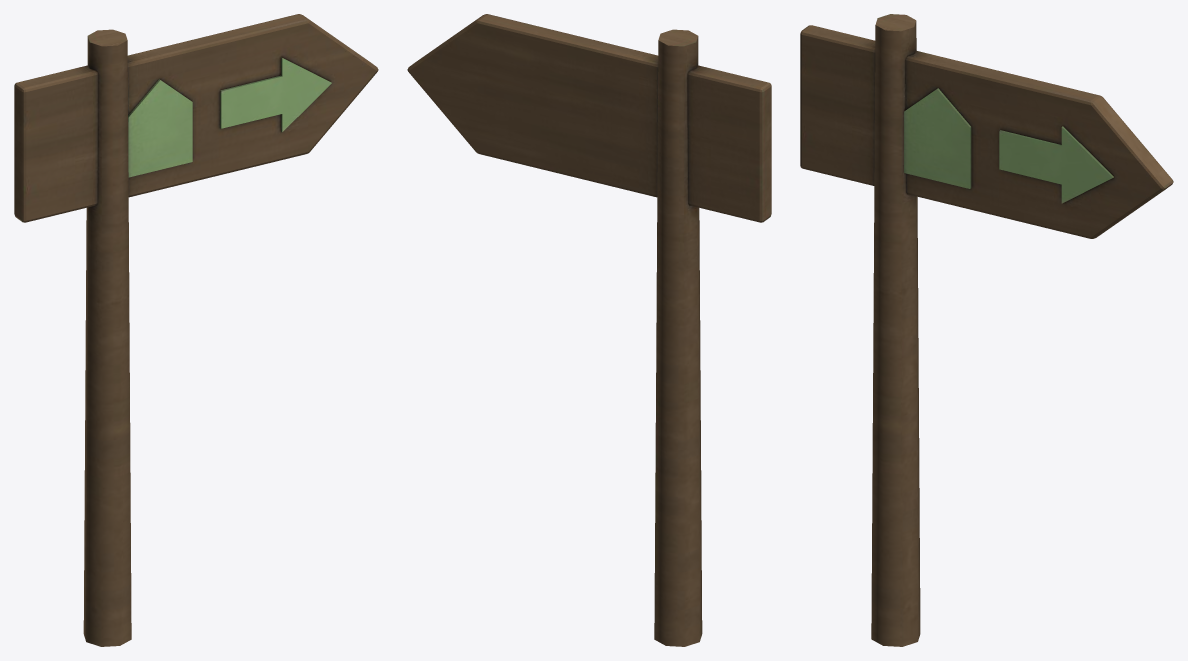
Rendered from dg_placa_saida.glb.
3 views of the same model, side by side, from view 1: azimuth 30°, elevation 25°; view 2: azimuth 150°, elevation 25°; view 3: azimuth 330°, elevation 25° (orthographic). The views are drawn at different scales.
Visible parts, largest first — view 1: dg_placa_saida_tronco; view 2: dg_placa_saida_tronco; view 3: dg_placa_saida_tronco.
Boxes of the visible parts, x1,y1,x2,y2 form: dg_placa_saida_tronco: [14, 14, 378, 646]; dg_placa_saida_tronco: [407, 14, 771, 646]; dg_placa_saida_tronco: [800, 14, 1173, 646].
Bounding box in the file's own units: 0.9965 × 1.6 × 0.12.
Materials: 1 (1 with a texture image).
